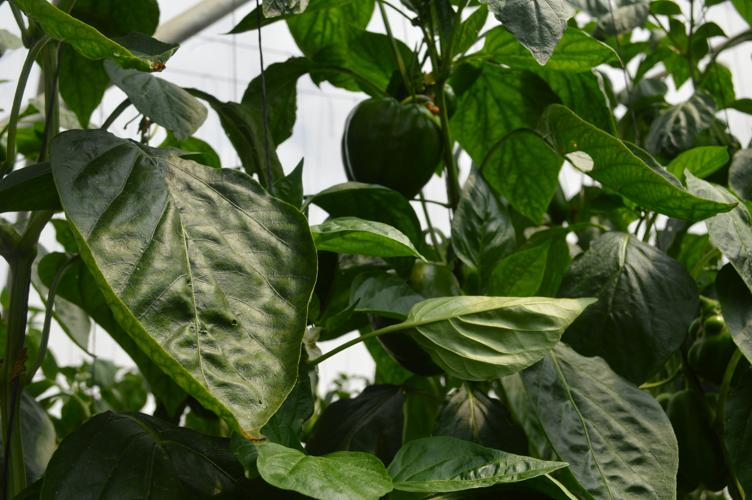BellPepper: (357, 258, 465, 368), (337, 99, 447, 205)
